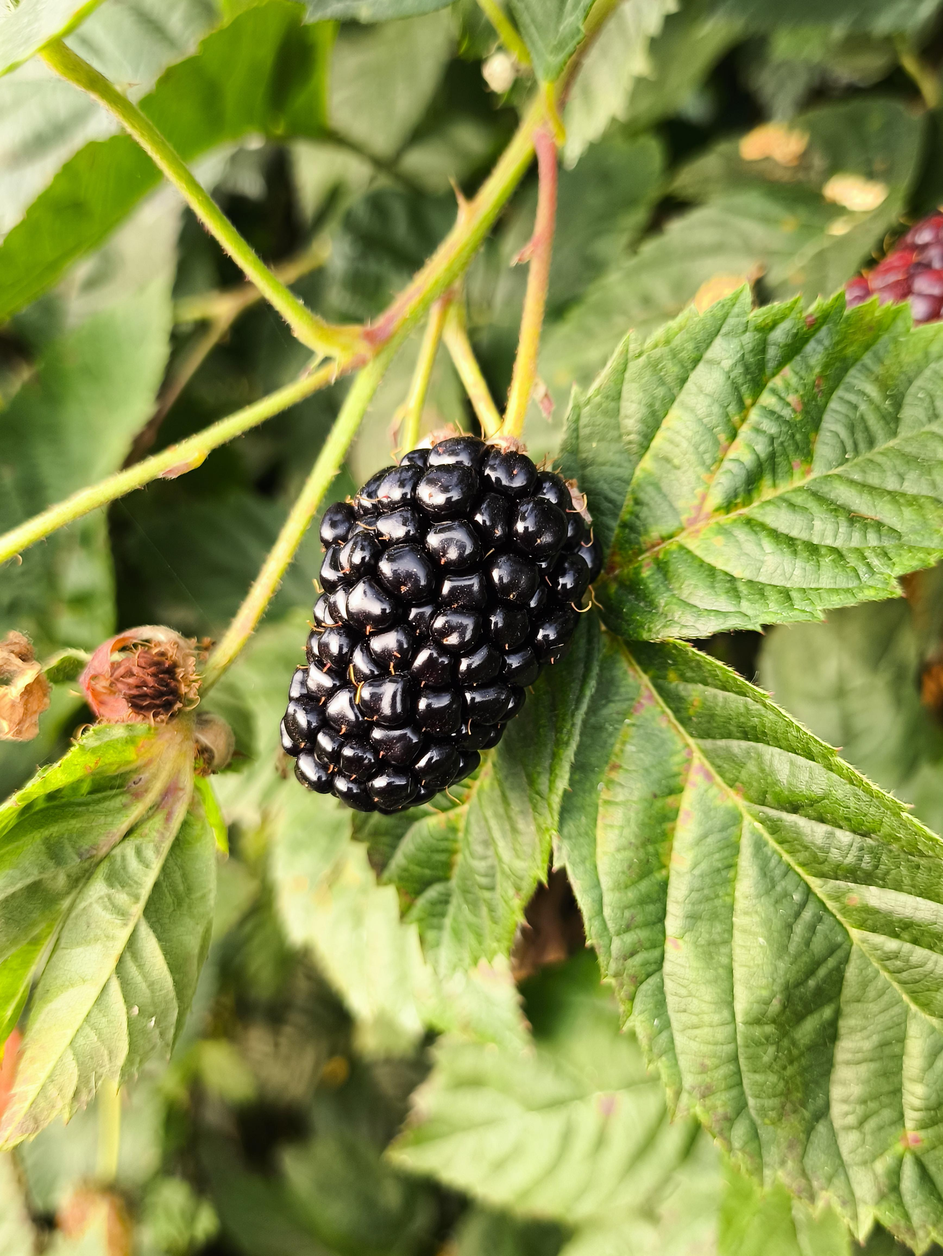maduro: (281, 436, 599, 814)
